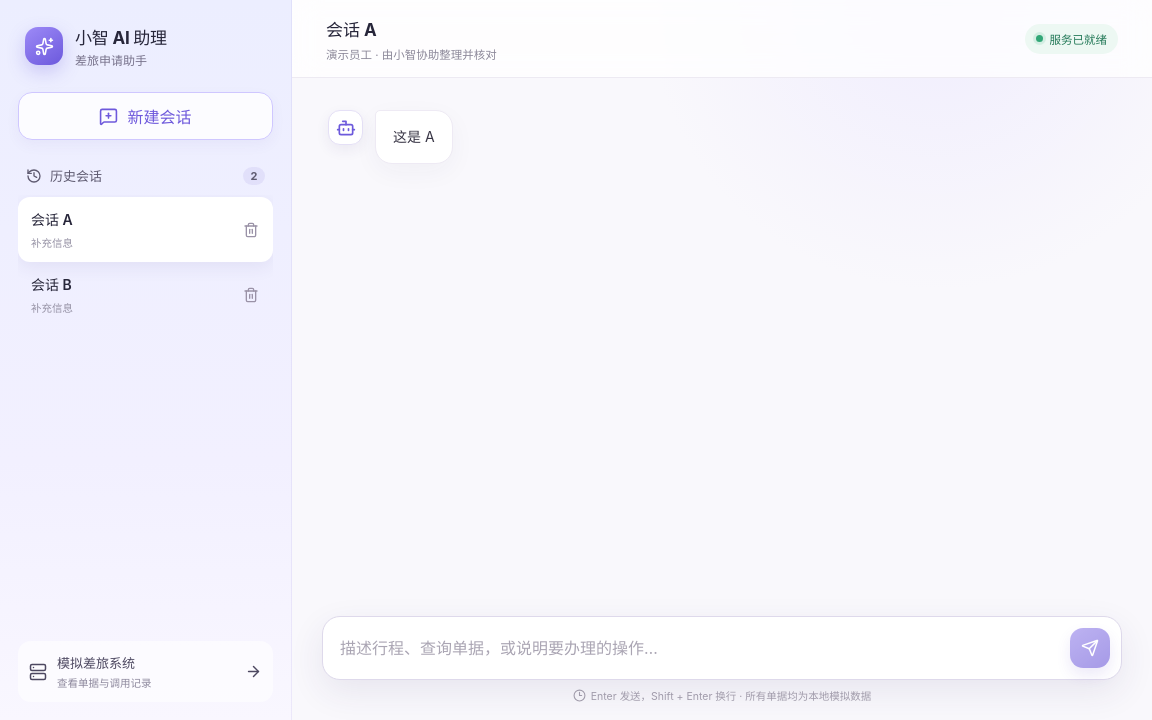
Test: 删除历史会话 › 删除失败在确认框中说明原因，保留会话并允许重试
Expected: the text "这是 A" is shown, [393,125,435,149]
What coordinates should you click on to do the following:
click the button named "删除会话：会话 B"
I would click on:
 (251, 294)
Its box is [234,278,268,312].
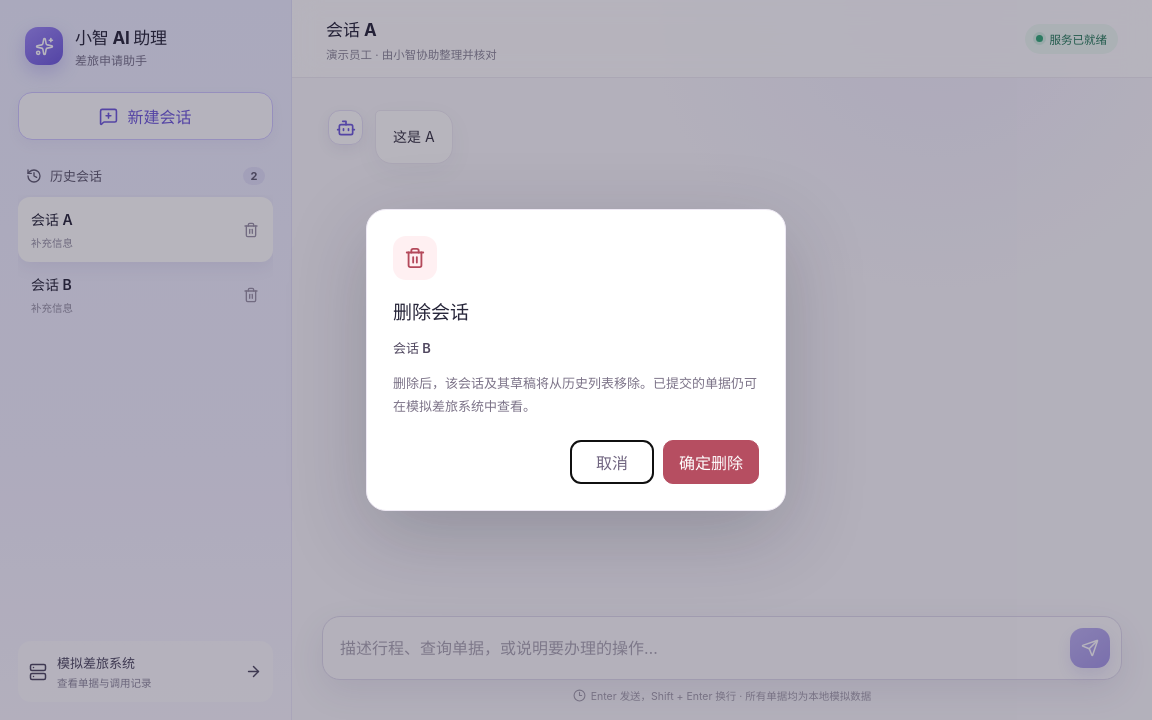
What coordinates should you click on to do the following:
click the button "确定删除"
I would click on:
 (711, 462)
Its box is [663,440,759,484].
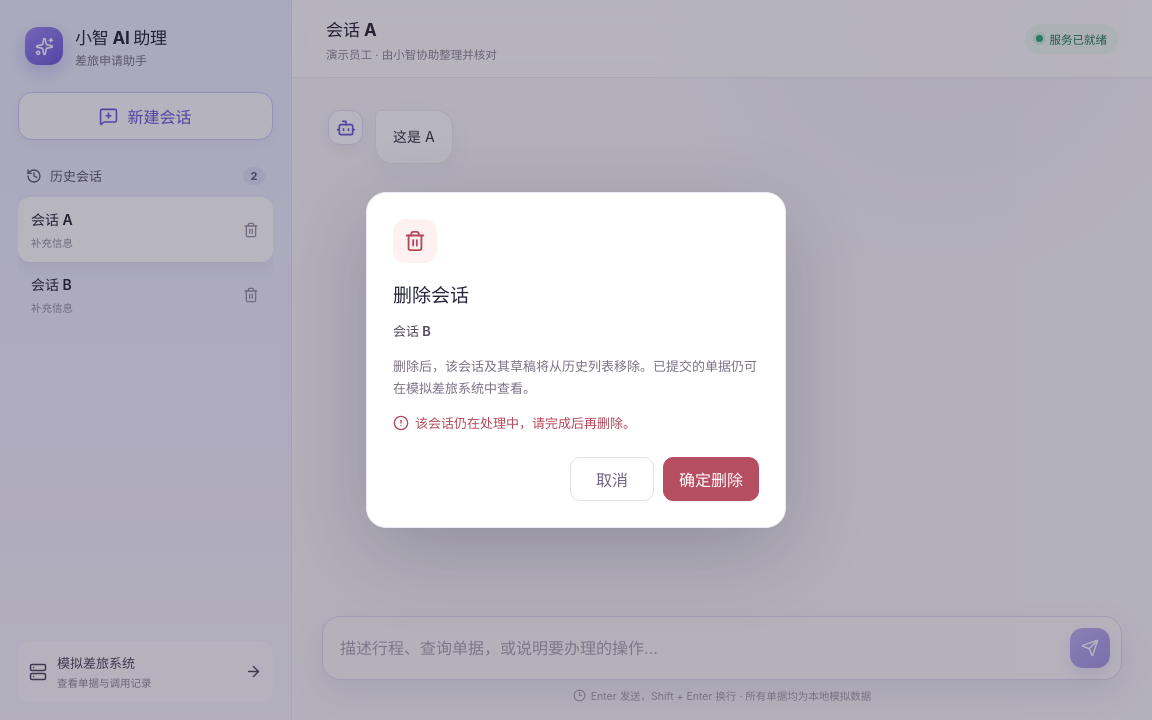
Expected: the button named "删除会话：会话 B" is shown, [234,278,268,312]
Now the text "该会话仍在处理中，请完成后再删除。" is shown, box [393,415,636,431]
What coordinates should you click on to do the following:
click the button "确定删除"
I would click on:
 (711, 479)
Its box is [663,457,759,501].
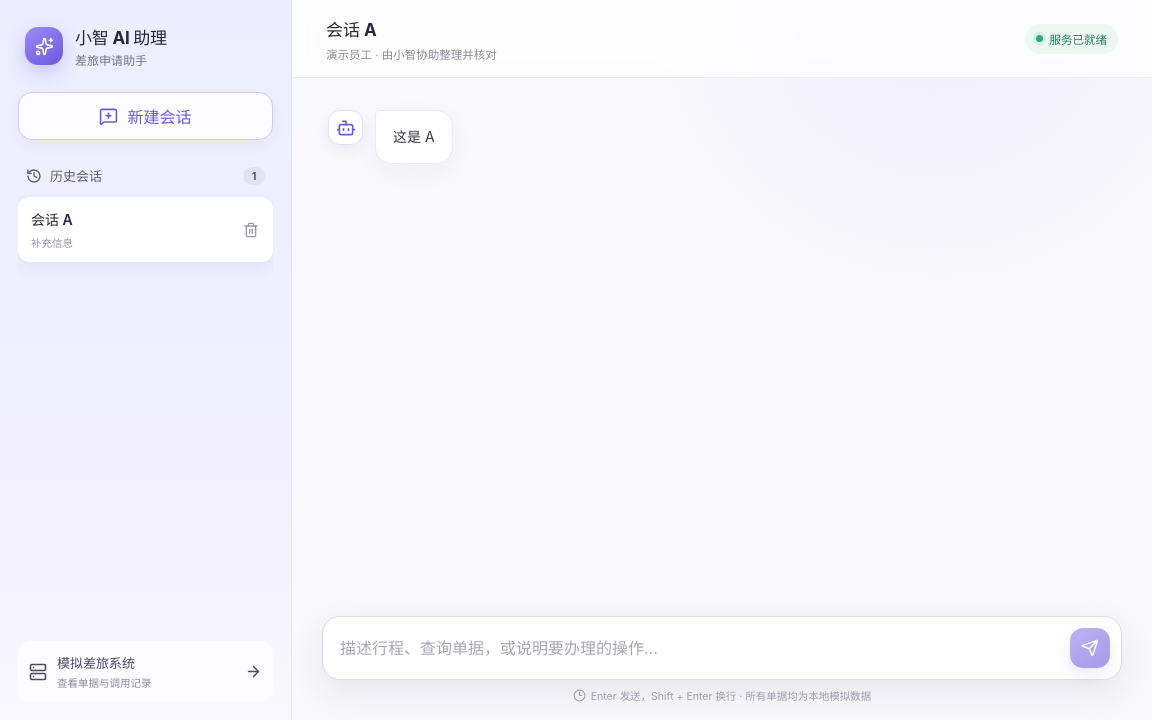
Now the dialog is gone
